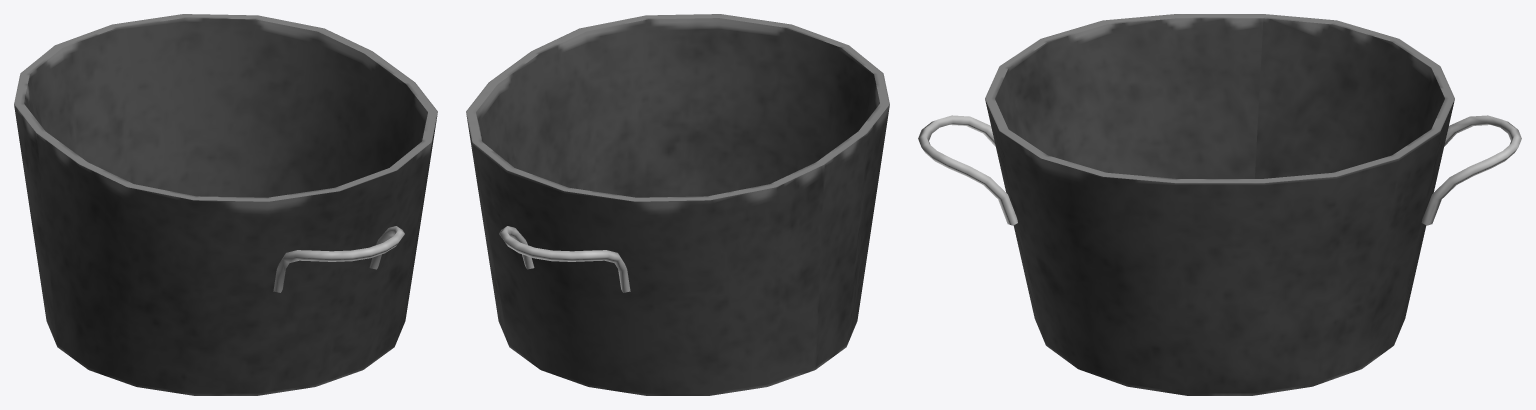
Rendered from BOWLER_2_low.fbx.
3 views of the same model, side by side, from view 1: azimuth 30°, elevation 25°; view 2: azimuth 150°, elevation 25°; view 3: azimuth 270°, elevation 25° (orthographic). The views are drawn at different scales.
Parts seen in each view (by area): view 1: BOWLER_2_low; view 2: BOWLER_2_low; view 3: BOWLER_2_low.
Part boxes in pixels (x1,y1,x2,y2): BOWLER_2_low: (14,14,437,395); BOWLER_2_low: (466,14,889,395); BOWLER_2_low: (918,14,1521,395).
Size of the model in its own units: 29.36 by 17.82 by 44.27.
